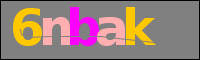6: (12, 7, 42, 48)
a: (98, 16, 125, 47)
b: (70, 6, 98, 46)
k: (126, 6, 157, 47)
n: (43, 15, 70, 47)
